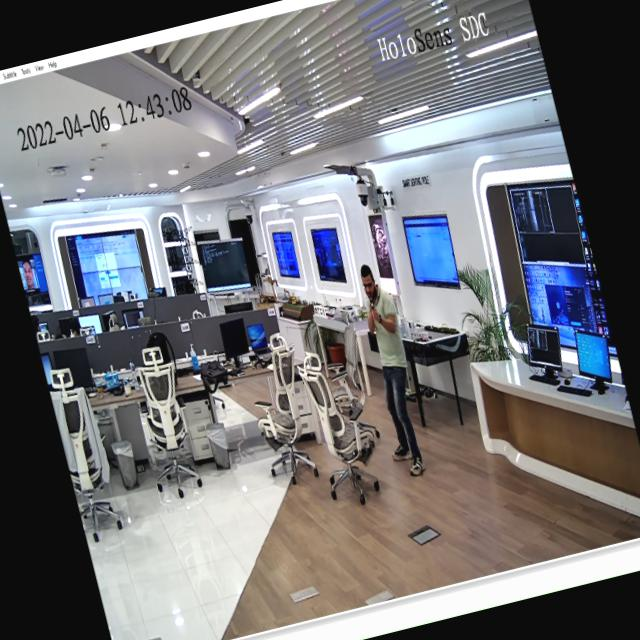long weapon: (366, 292, 382, 324)
